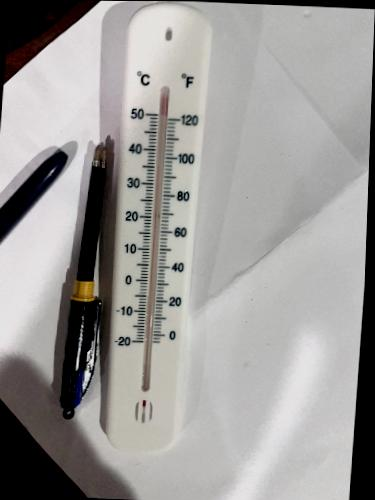thermo: (100, 4, 211, 454)
